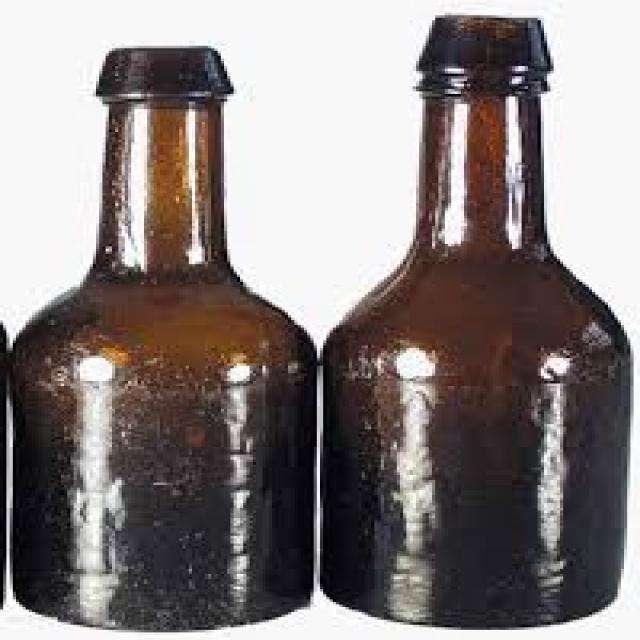glass: (317, 13, 627, 627), (3, 46, 314, 627)
